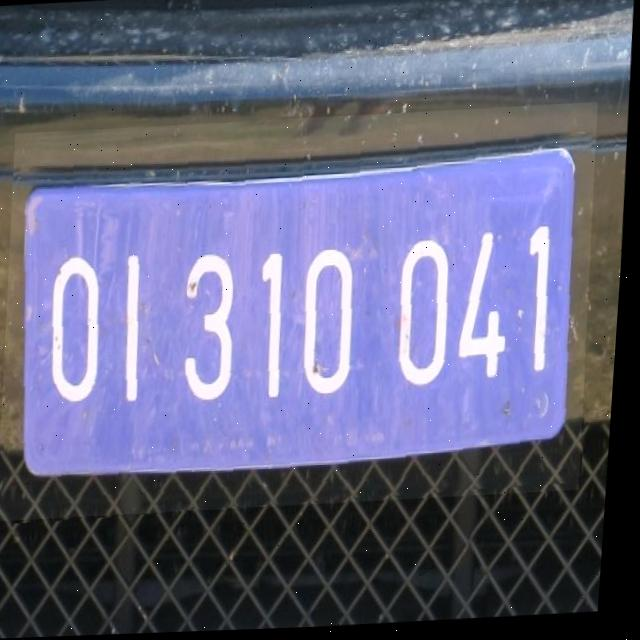LicensePlate: (0, 107, 606, 522)
